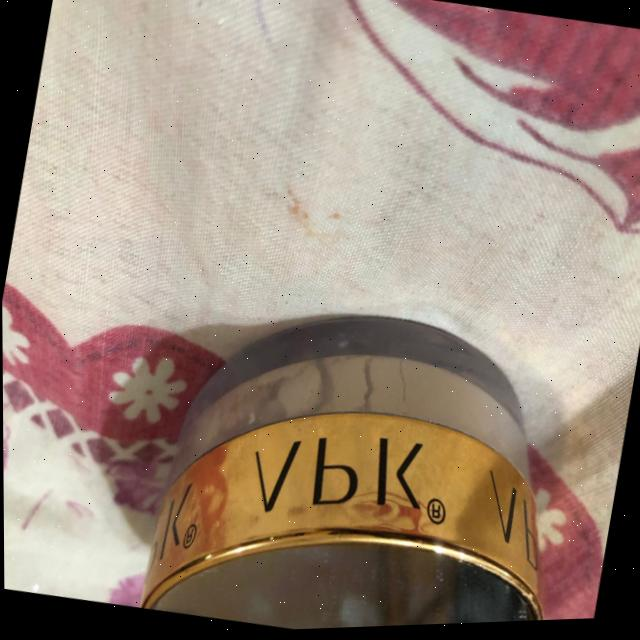powder: (151, 288, 581, 537)
